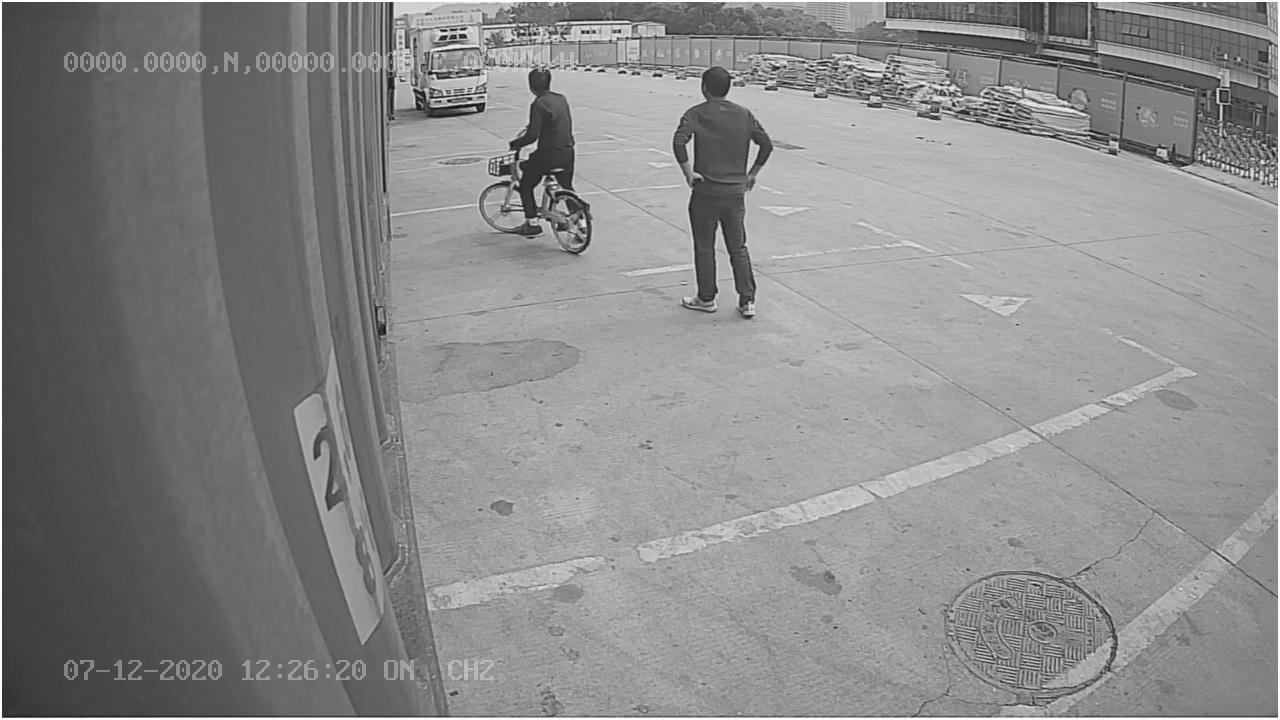person: (662, 65, 779, 319)
